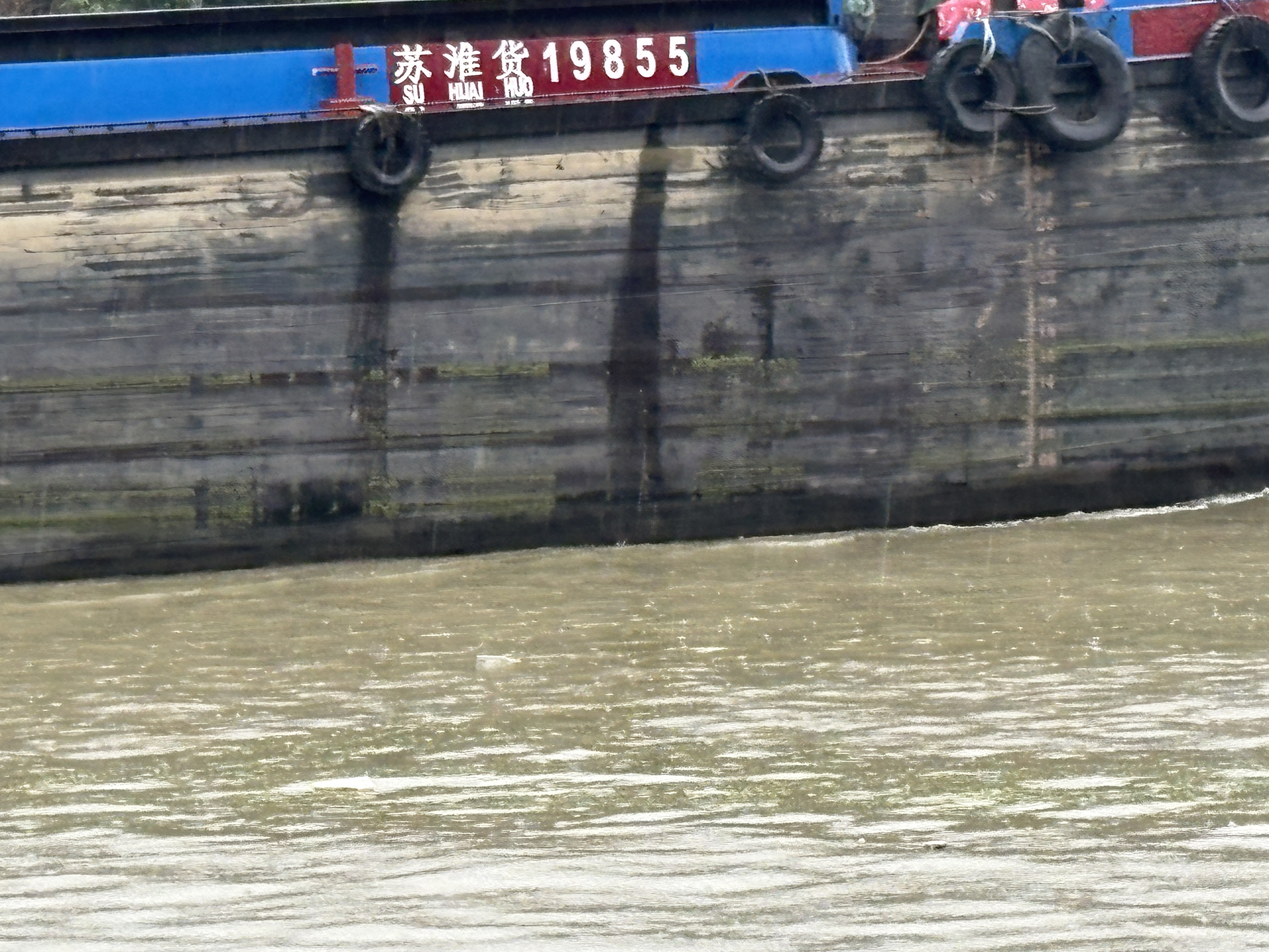Plastic wastes: (473, 649, 521, 666), (922, 838, 947, 855)
